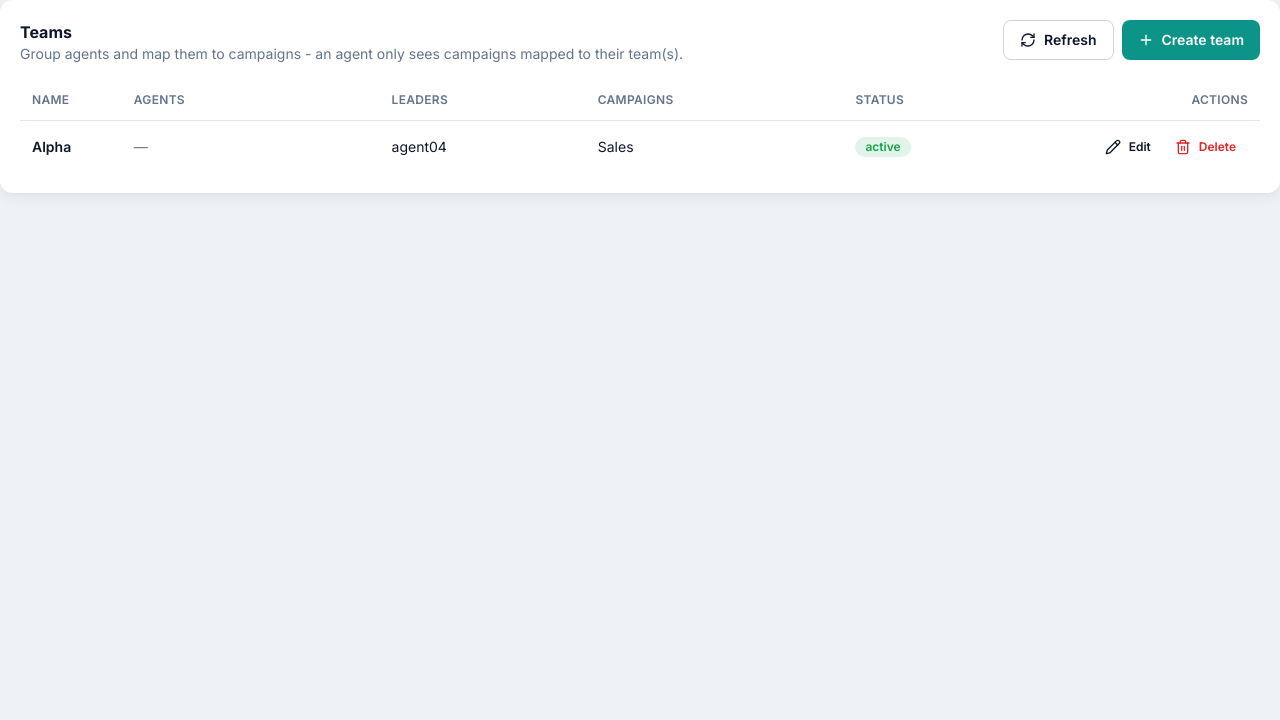
Teams › creates a team with ticked agents and campaigns (agents only)
Click the button "Create team".
click(1191, 40)  # box [1122,20,1260,60]
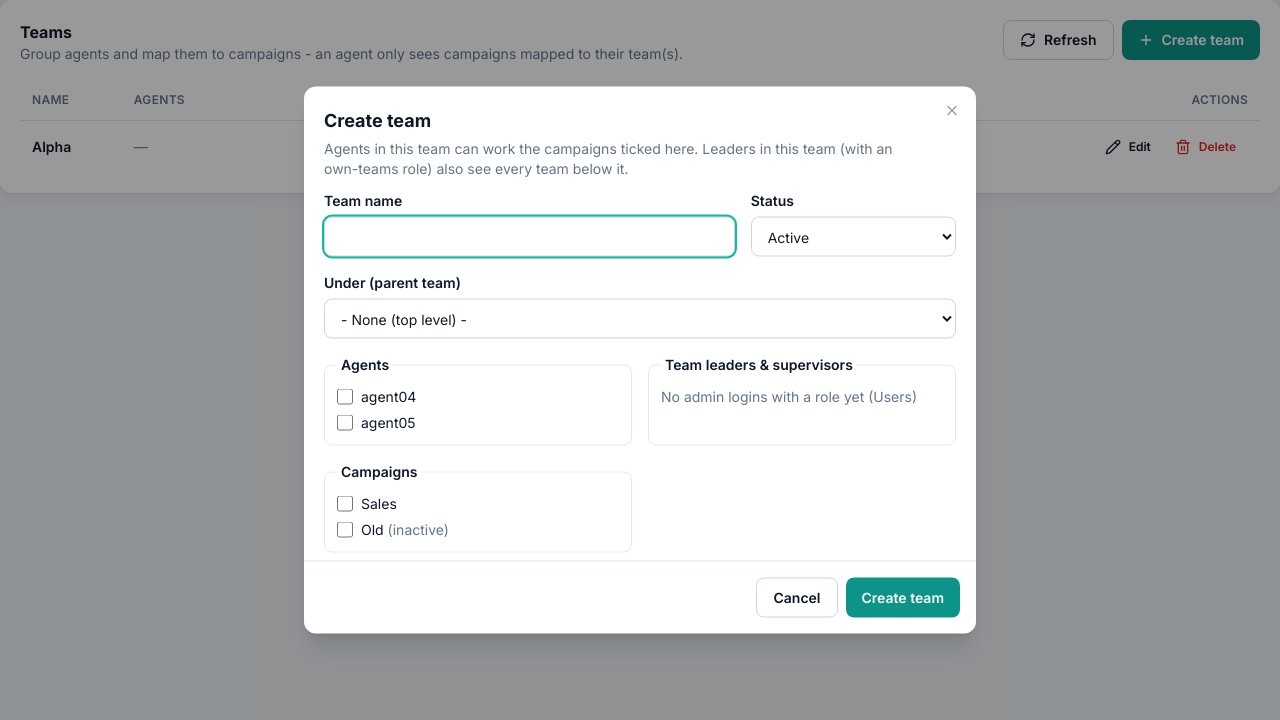
Type " Beta " into the field labelled "Team name".
click(529, 236); type(" Beta ")  # box [324,216,735,256]
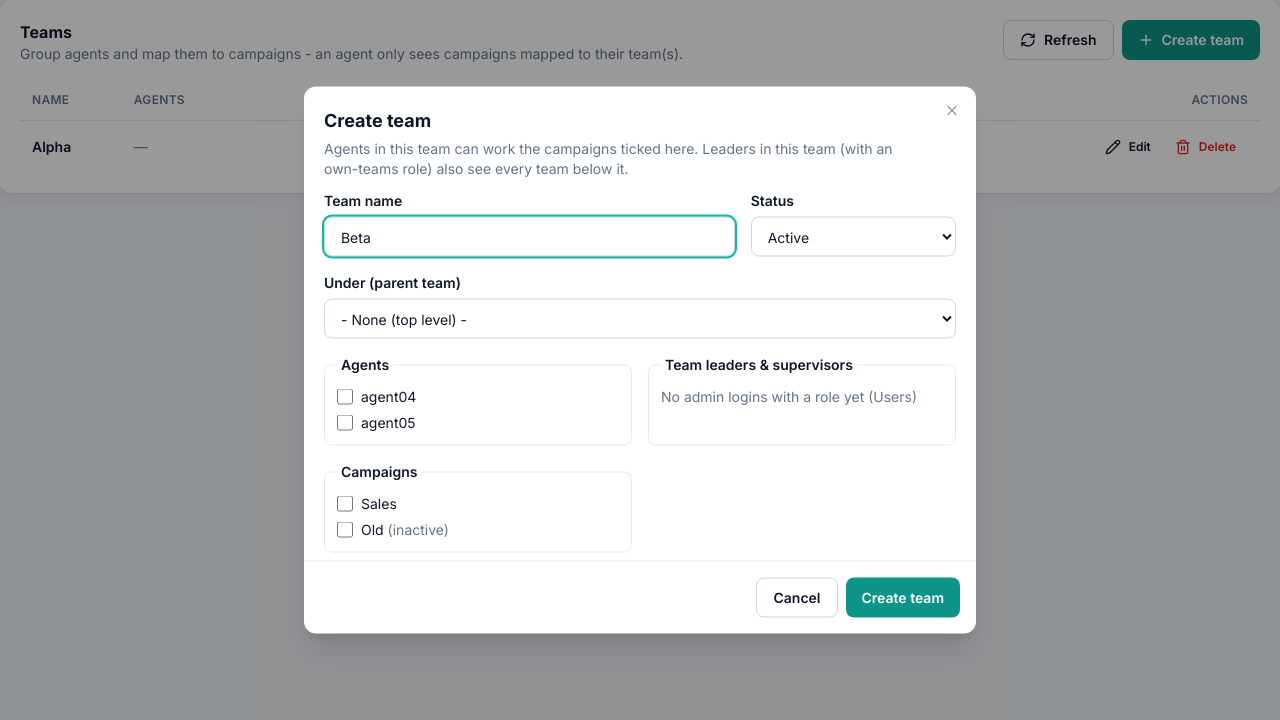
Select "Inactive" in the dropdown labelled "Status" at (853, 236), box [751,216,956,256]
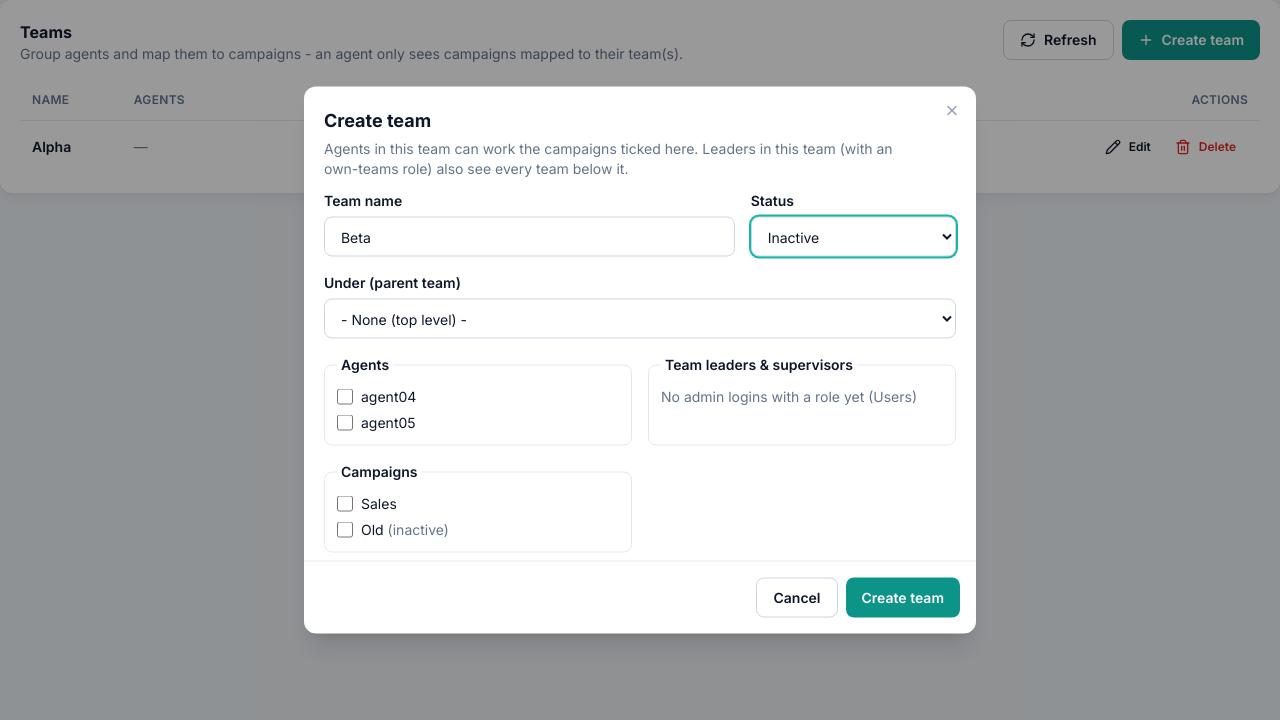
Click the checkbox named "Agents: agent05".
click(345, 422)  # box [337,414,353,430]
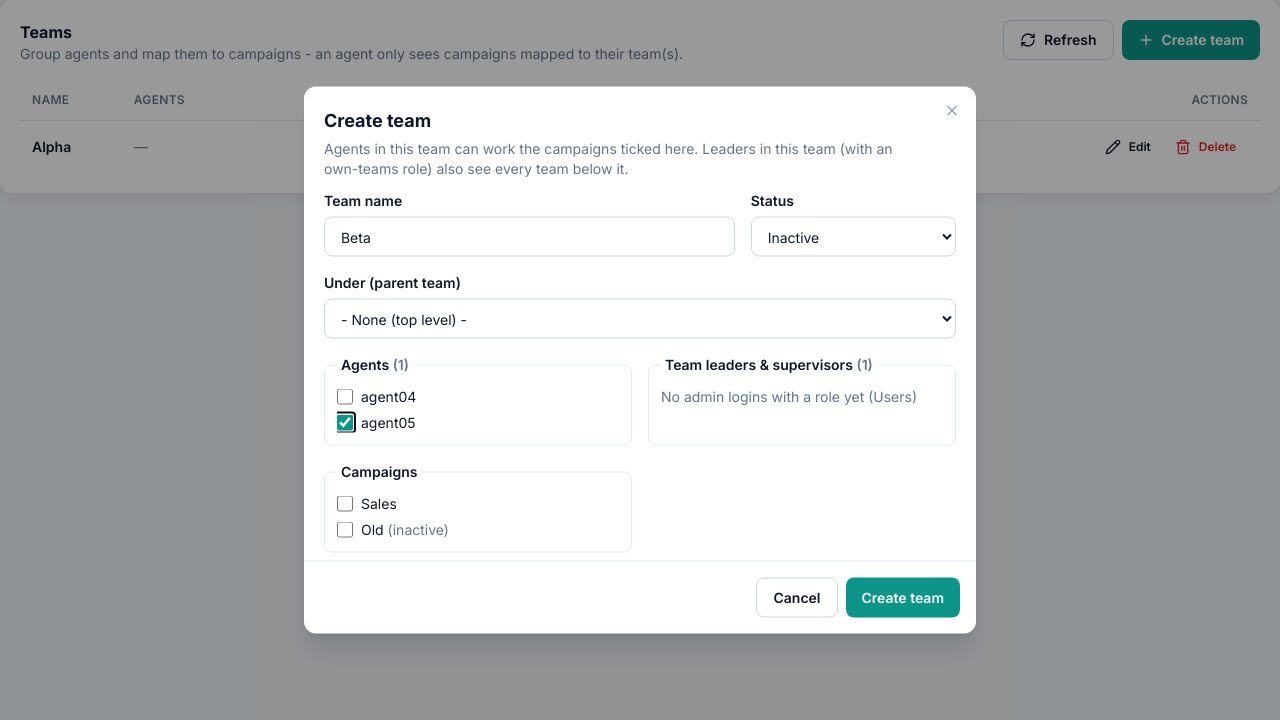
Click the checkbox named "Campaigns: Old".
click(345, 530)  # box [337,522,353,538]
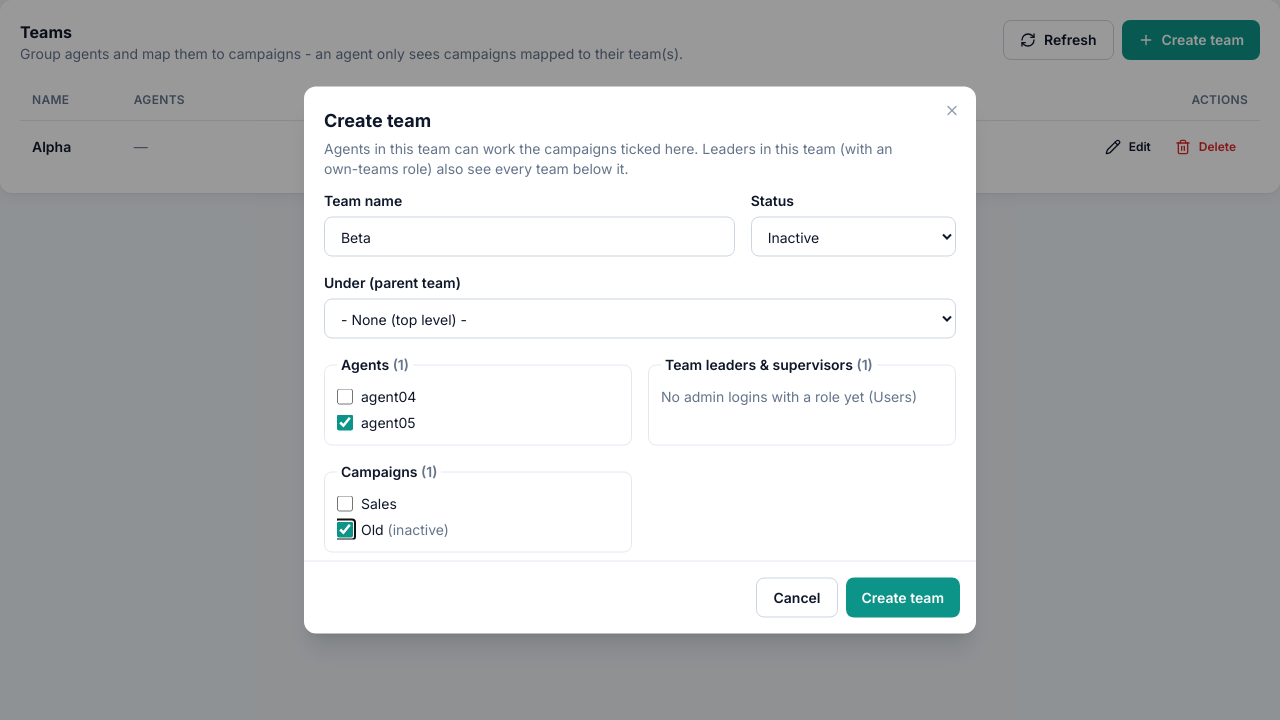
Expected: the text "(inactive)" is shown, [384,520,449,538]
Click the button "Create team".
click(903, 598)  # box [846,578,960,618]
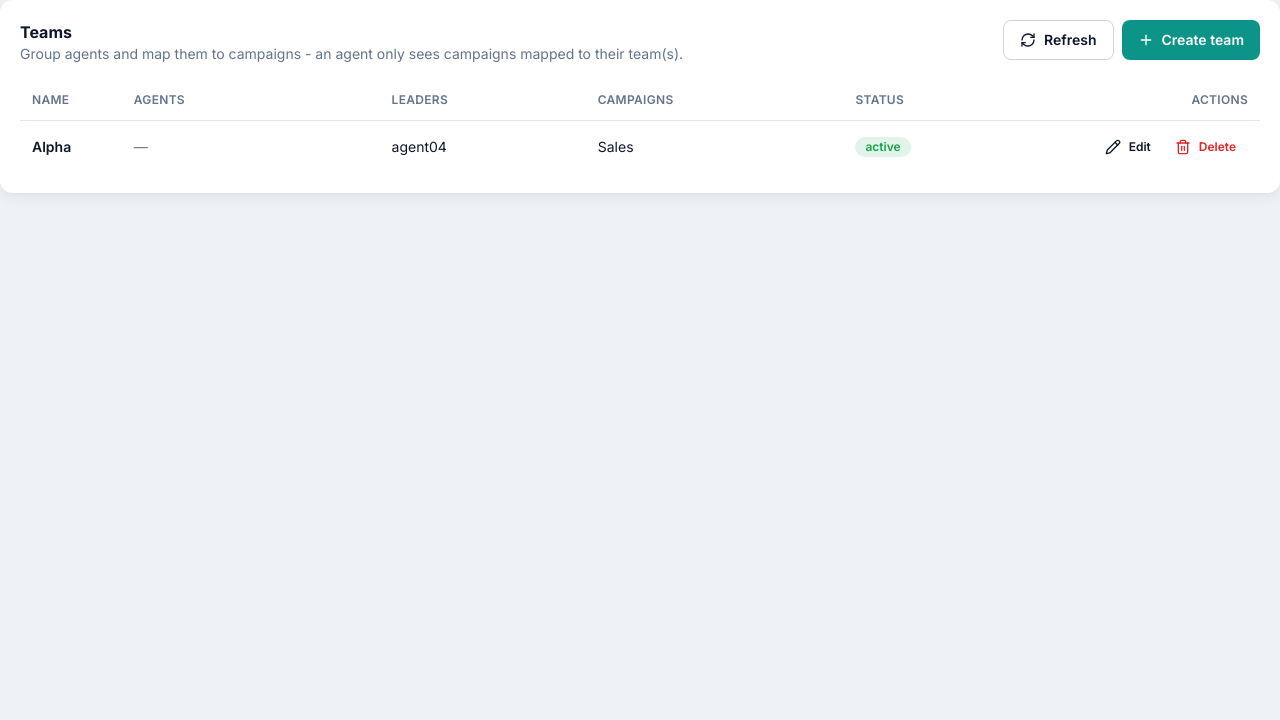
Expected: the dialog is gone
